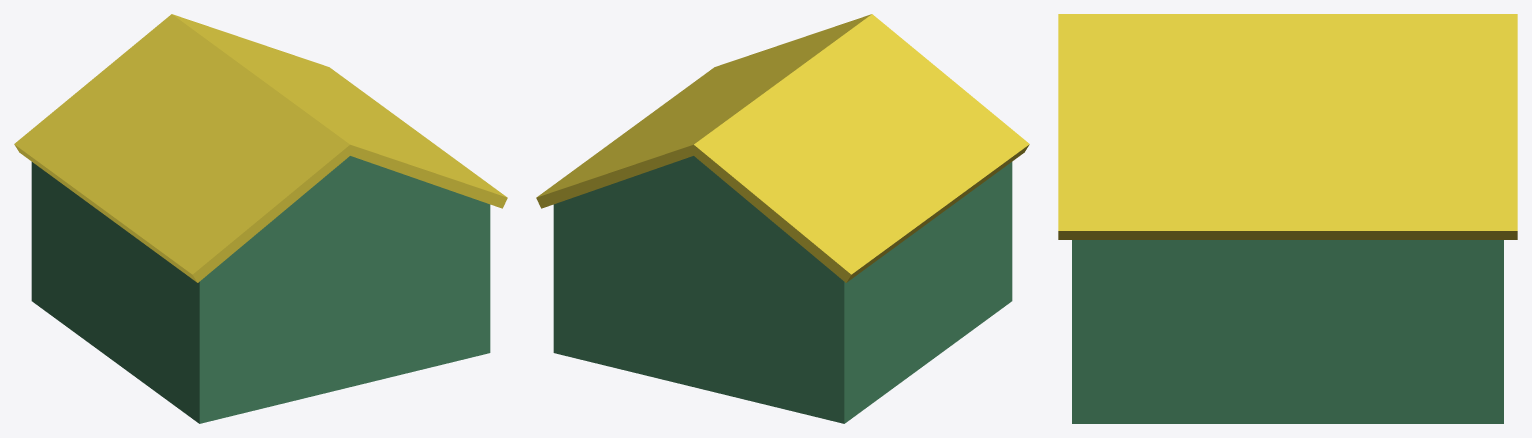
The model's file is Map-House-T-Lv1-Y.fbx.
The picture shows the model from 3 angles, left to right: view 1: azimuth 30°, elevation 25°; view 2: azimuth 150°, elevation 25°; view 3: azimuth 270°, elevation 25°; orthographic projection. The views are drawn at different scales.
Parts seen in each view (by area): view 1: Map-House-T-Lv1-Y; view 2: Map-House-T-Lv1-Y; view 3: Map-House-T-Lv1-Y.
Boxes of the visible parts, x1=… form: Map-House-T-Lv1-Y: x1=14, y1=14, x2=507, y2=423; Map-House-T-Lv1-Y: x1=536, y1=14, x2=1029, y2=423; Map-House-T-Lv1-Y: x1=1058, y1=14, x2=1517, y2=423.
Size of the model in its own units: 1.3 by 0.975 by 1.27.
